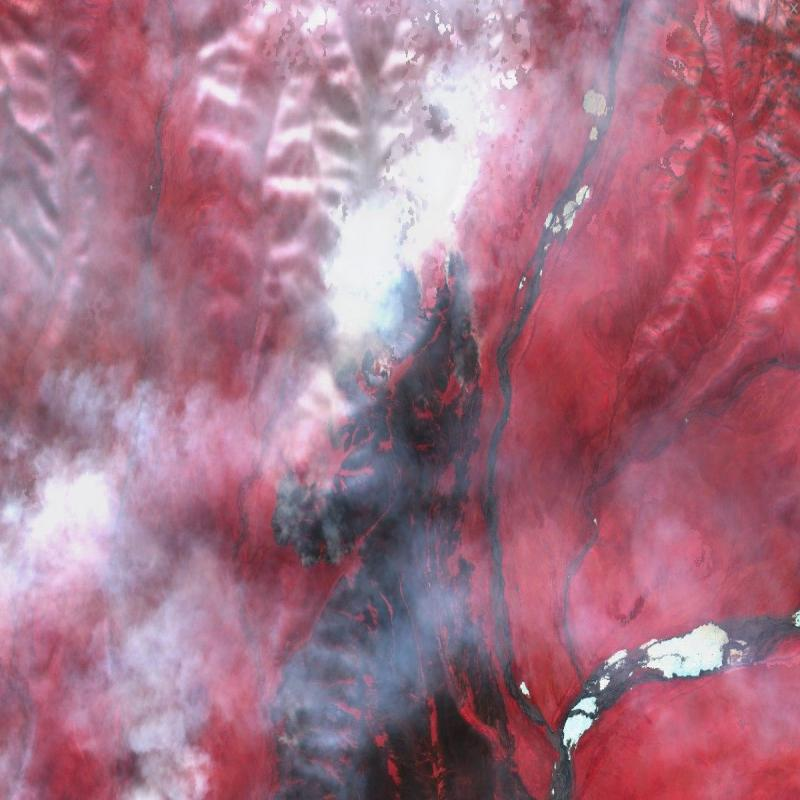fire: (269, 234, 487, 576), (270, 732, 305, 774)
